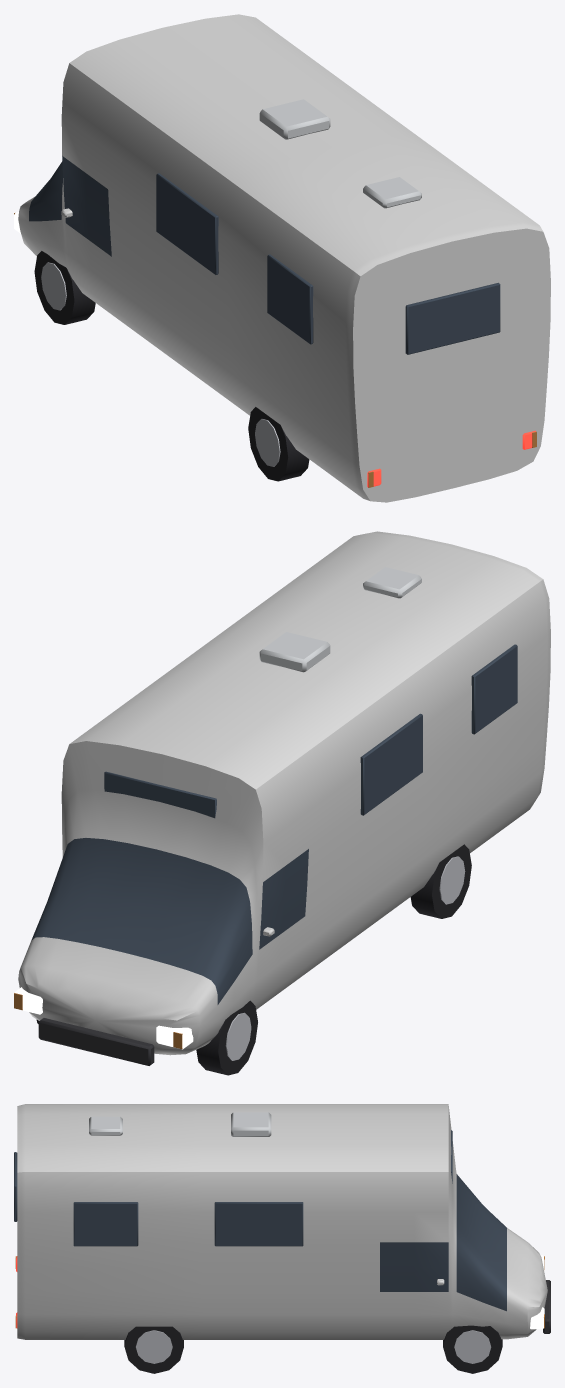
The model's file is auto_freq_caravan_lod2.glb.
The picture shows the model from 3 angles, top to bottom: view 1: azimuth 30°, elevation 25°; view 2: azimuth 150°, elevation 25°; view 3: azimuth 270°, elevation 25°; orthographic projection. The views are drawn at different scales.
Visible parts, largest first — view 1: Karosserie, Rad_HL, Rad_VL; view 2: Karosserie, Rad_VL, Rad_HL; view 3: Karosserie, Rad_VR, Rad_HR.
Part boxes in pixels (<box>): Karosserie: <box>14,14,550,502</box>; Rad_HL: <box>248,407,309,481</box>; Rad_VL: <box>34,251,95,324</box>; Karosserie: <box>14,531,550,1065</box>; Rad_VL: <box>196,1000,257,1075</box>; Rad_HL: <box>410,844,471,918</box>; Karosserie: <box>14,1104,550,1339</box>; Rad_VR: <box>443,1325,502,1373</box>; Rad_HR: <box>124,1326,183,1373</box>.
Bounding box in the file's own units: 2.24 × 3.02 × 6.66.
